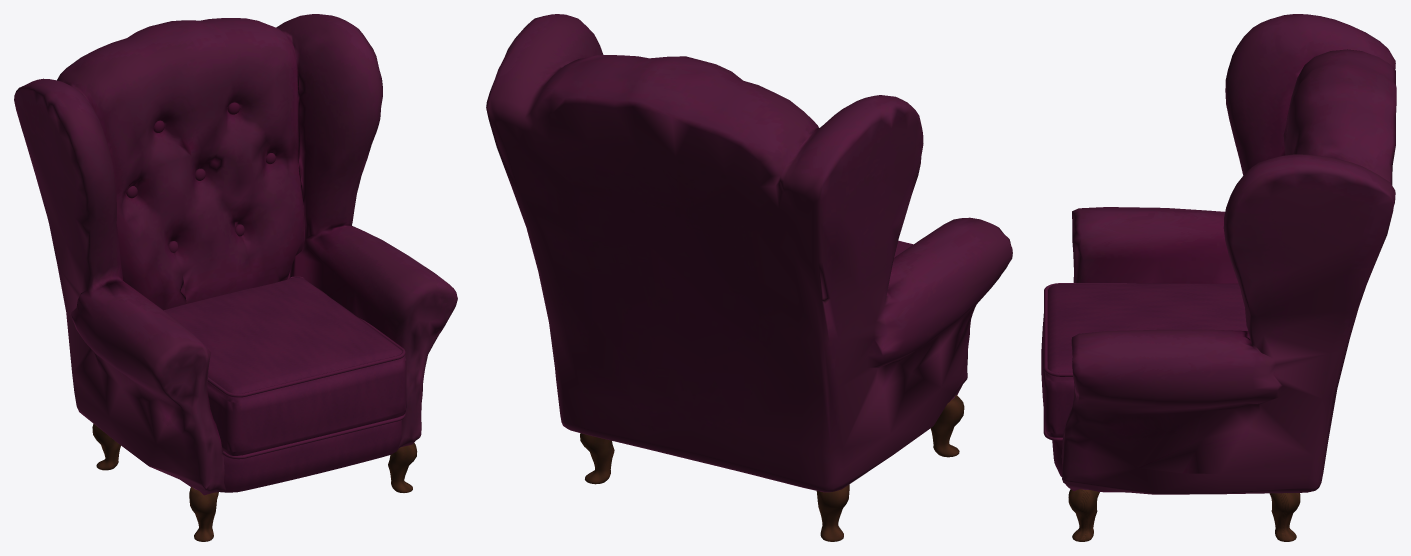
File: wingback_armchair_v3.glb
The picture shows the model from 3 angles, left to right: view 1: azimuth 30°, elevation 25°; view 2: azimuth 150°, elevation 25°; view 3: azimuth 270°, elevation 25°; orthographic projection. The views are drawn at different scales.
Parts seen in each view (by area): view 1: wingback_armchair_v3; view 2: wingback_armchair_v3; view 3: wingback_armchair_v3.
Part boxes in pixels (x1,y1,x2,y2): wingback_armchair_v3: (14, 14, 457, 541); wingback_armchair_v3: (486, 14, 1012, 541); wingback_armchair_v3: (1041, 14, 1396, 541).
Size of the model in its own units: 1.17 by 1.41 by 1.1.
Materials: 3 (3 with a texture image).
